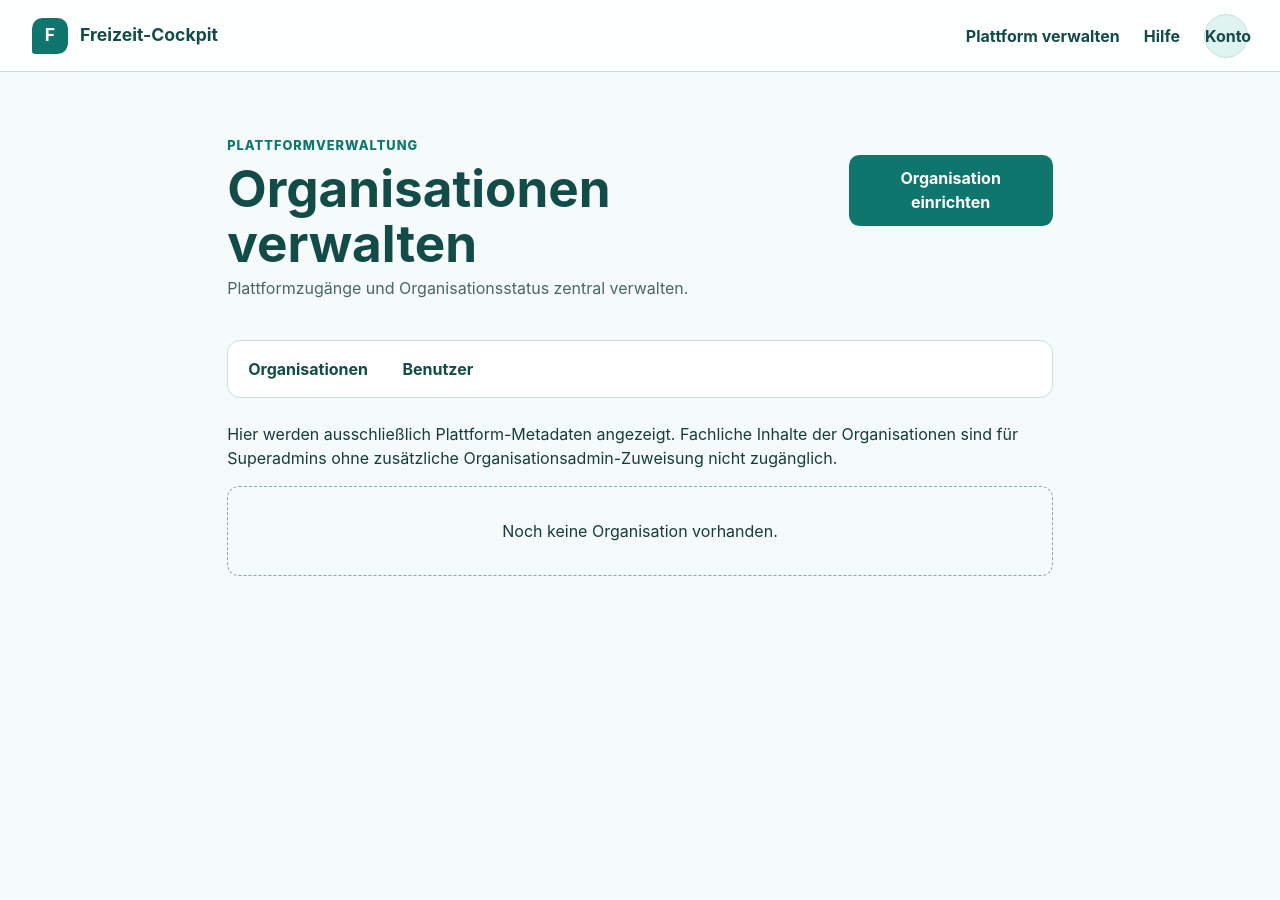
platform organization administration › keeps a newly created setup link visible when clipboard access is denied
The width and height of the screenshot is (1280, 900).
Expected: the heading "Organisationen verwalten" is shown, [227,157,611,274]
Click the button "Organisation einrichten" at (951, 190), box [848,155,1053,226]
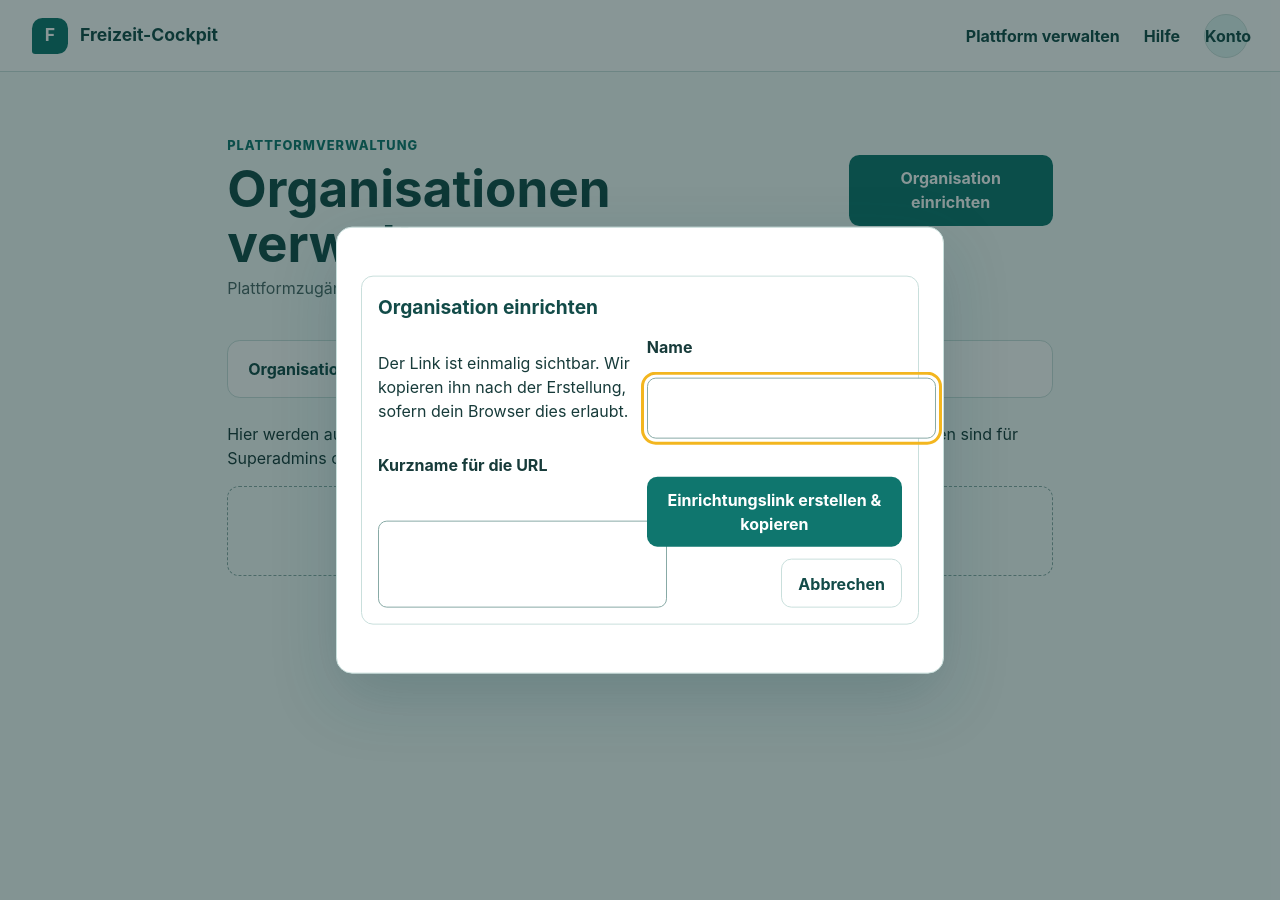
Type "Jugendwerk Nord" into the field labelled "Name" at (791, 408), box [647,378,936,439]
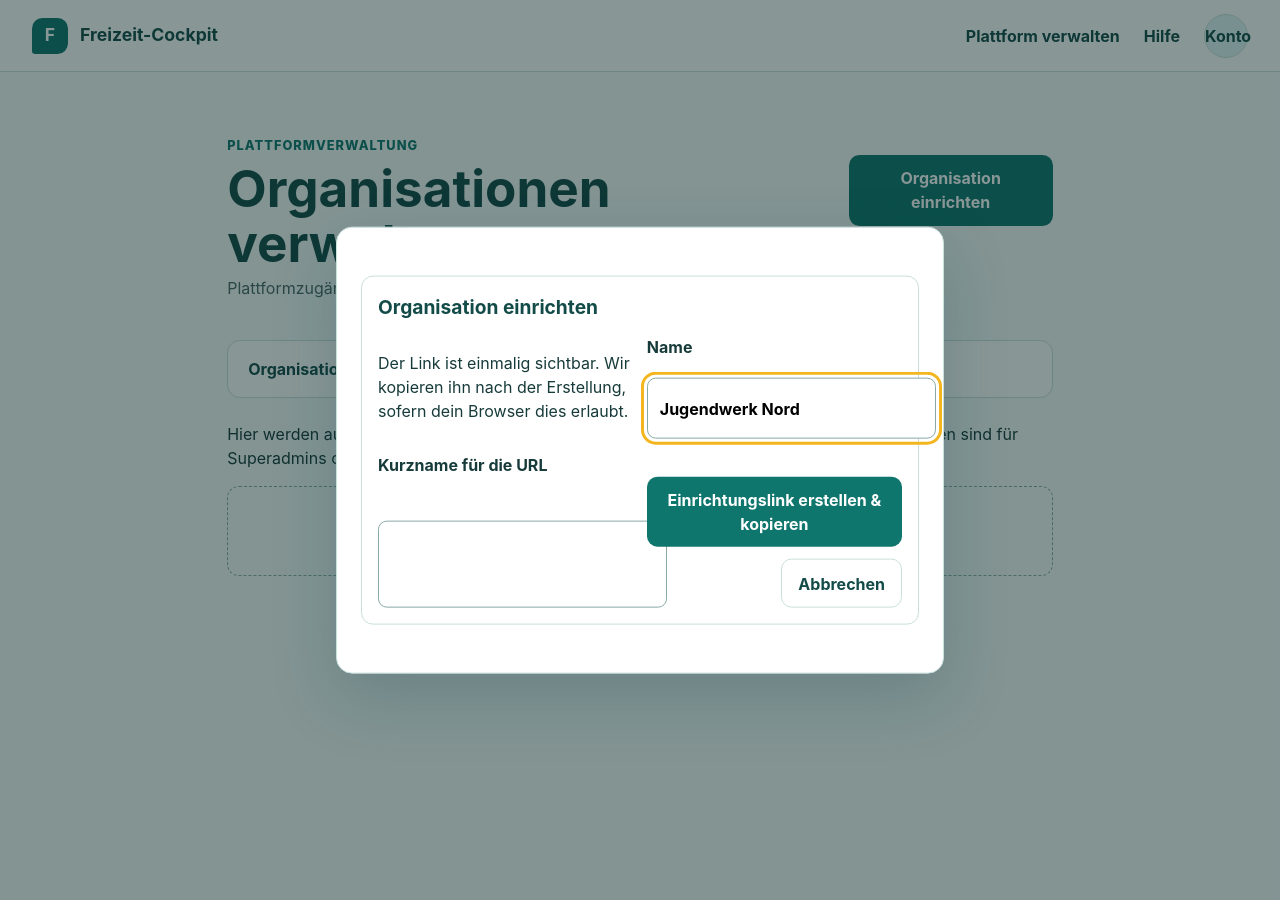
Type "jugendwerk-nord" into the field labelled "Kurzname für die URL" at (522, 564), box [378,521,667,607]
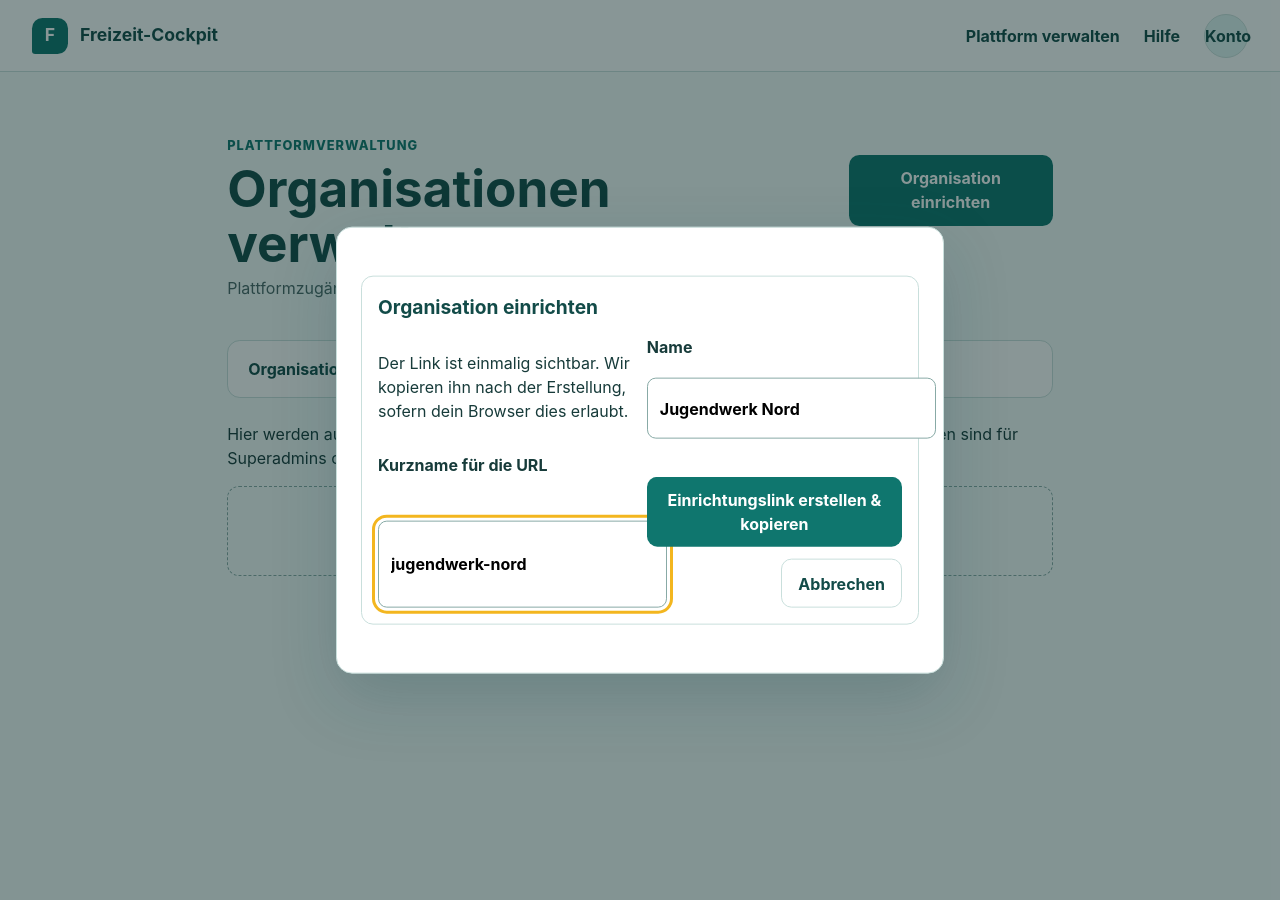
Click the button "Einrichtungslink erstellen & kopieren" at (774, 512), box [647,477,902,547]
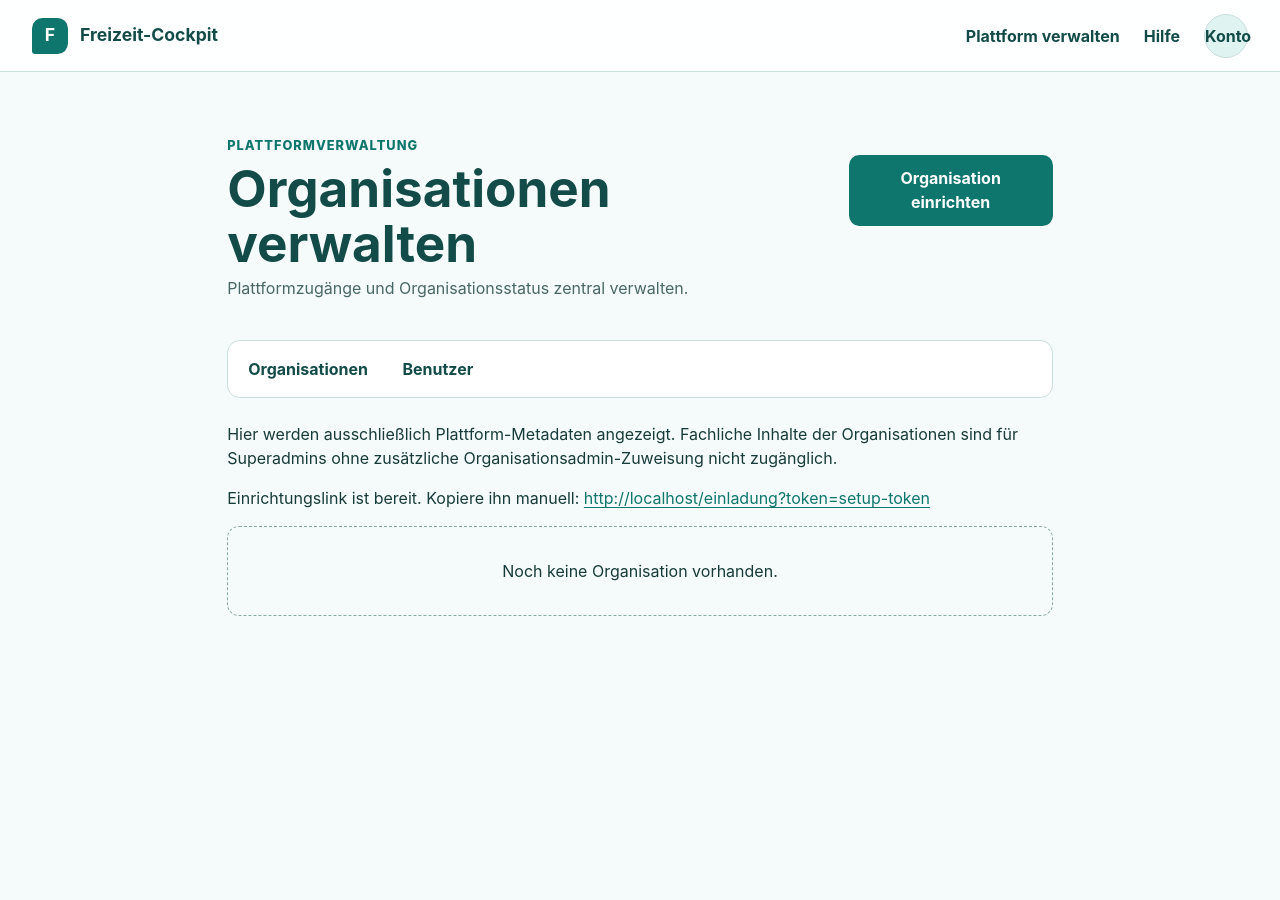
Expected: the text "Einrichtungslink ist bereit" is shown, [227,488,584,508]
